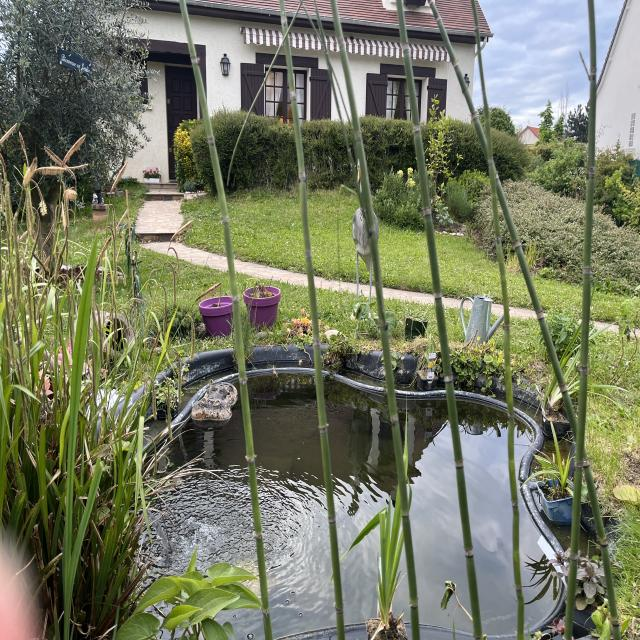Heron: (343, 143, 391, 330)
